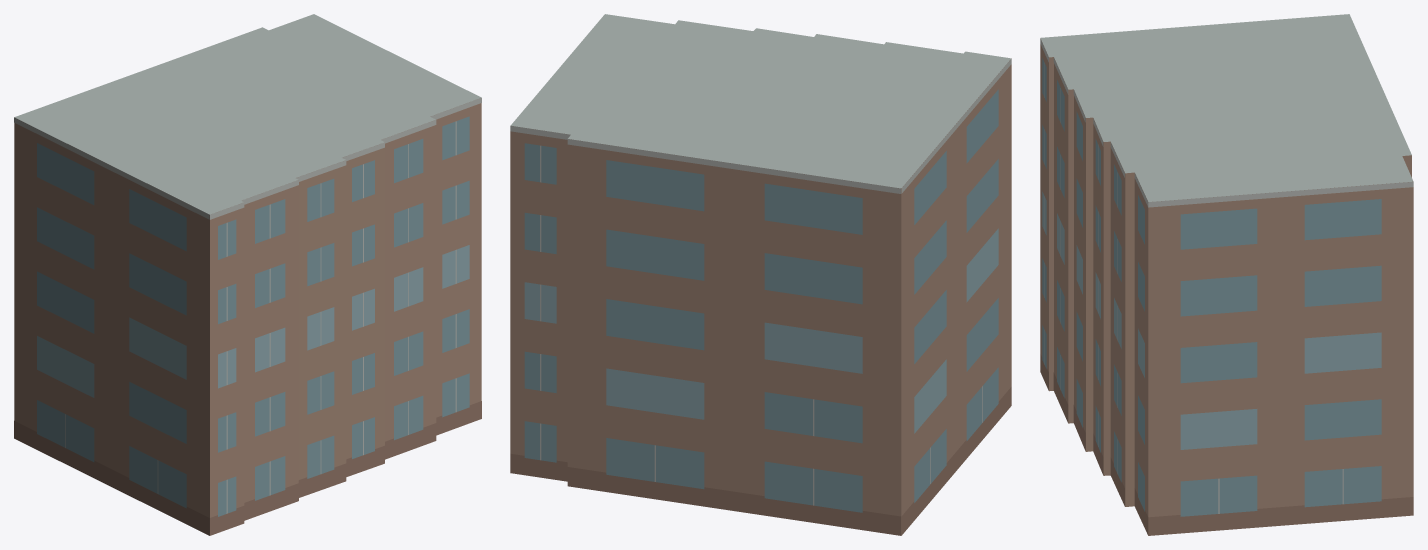
The model's file is survey-upis-33007079.glb.
3 views of the same model, side by side, from view 1: azimuth 30°, elevation 25°; view 2: azimuth 150°, elevation 25°; view 3: azimuth 270°, elevation 25° (orthographic). The views are drawn at different scales.
Visible parts, largest first — view 1: survey-upis-33007079.tmp; view 2: survey-upis-33007079.tmp; view 3: survey-upis-33007079.tmp.
Boxes of the visible parts, bbox=[...] form: survey-upis-33007079.tmp: bbox=[14, 14, 481, 535]; survey-upis-33007079.tmp: bbox=[510, 14, 1011, 535]; survey-upis-33007079.tmp: bbox=[1040, 14, 1413, 535].
Bounding box in the file's own units: 18.01 × 14.9 × 15.11.
